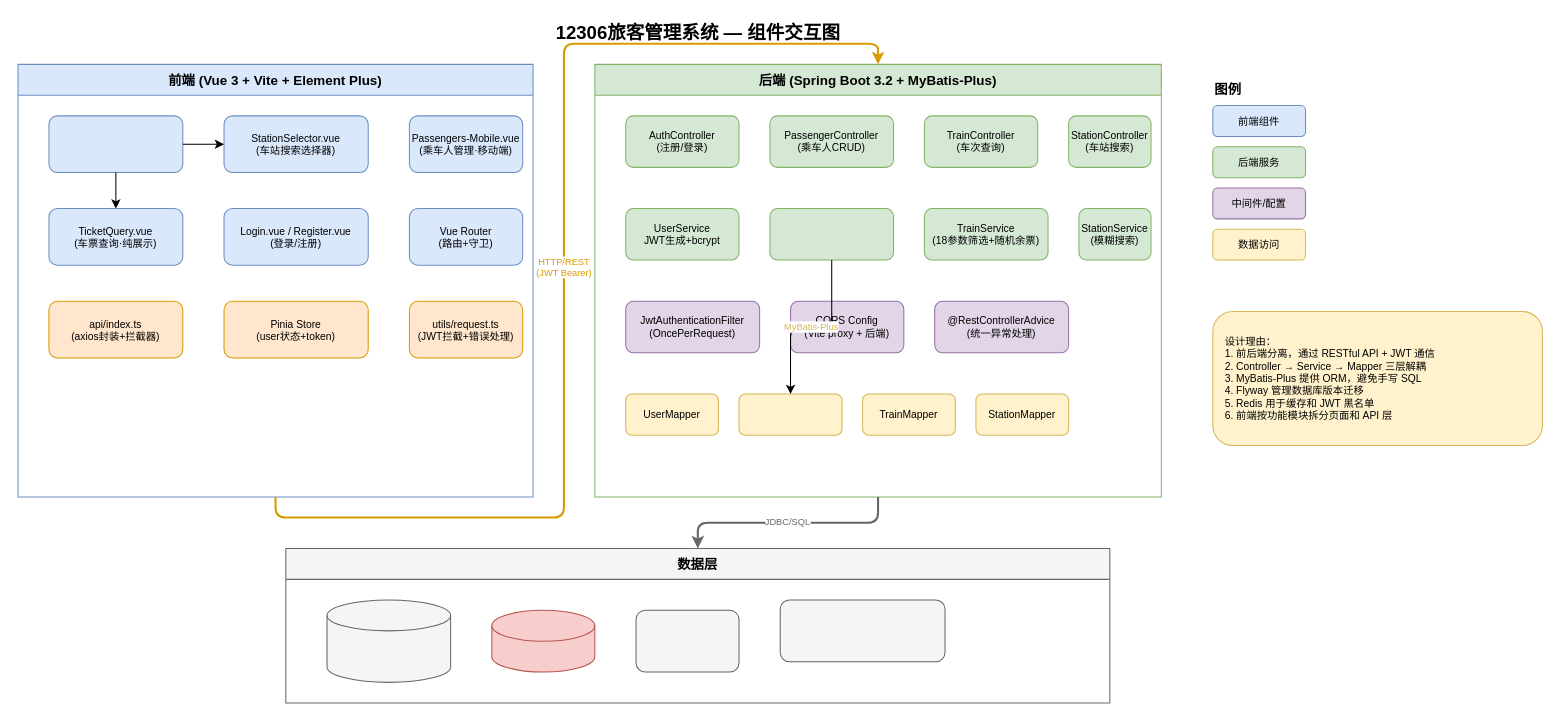
Some shapes in this 1560 by 721 pixel diagram are drawn without their labels. The centre of each missing label's shape, as x and y in pixels:
"Flyway (SQL版本管理)" goes at [687,640].
"Home.vue (首页+查询入口)" goes at [115,144].
"MySQL 8.0 (railway_system)" goes at [388,640].
"PassengerMapper" goes at [790,414].
"PassengerService (15上限+唯一校验)" goes at [831,234].
"Redis (缓存/JWT黑名单)" goes at [543,640].
"Tables: users | passengers | stations trains | train_stops | seat_types" goes at [862,630].
